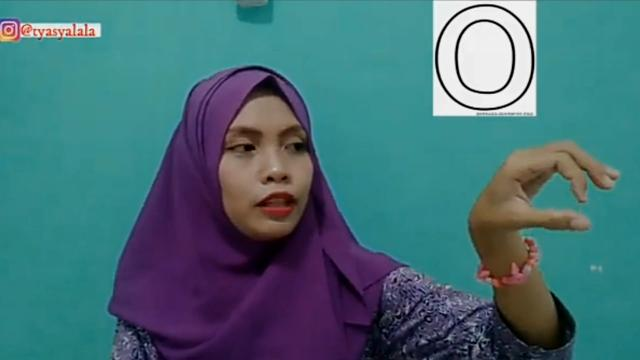O: (466, 139, 628, 249)
